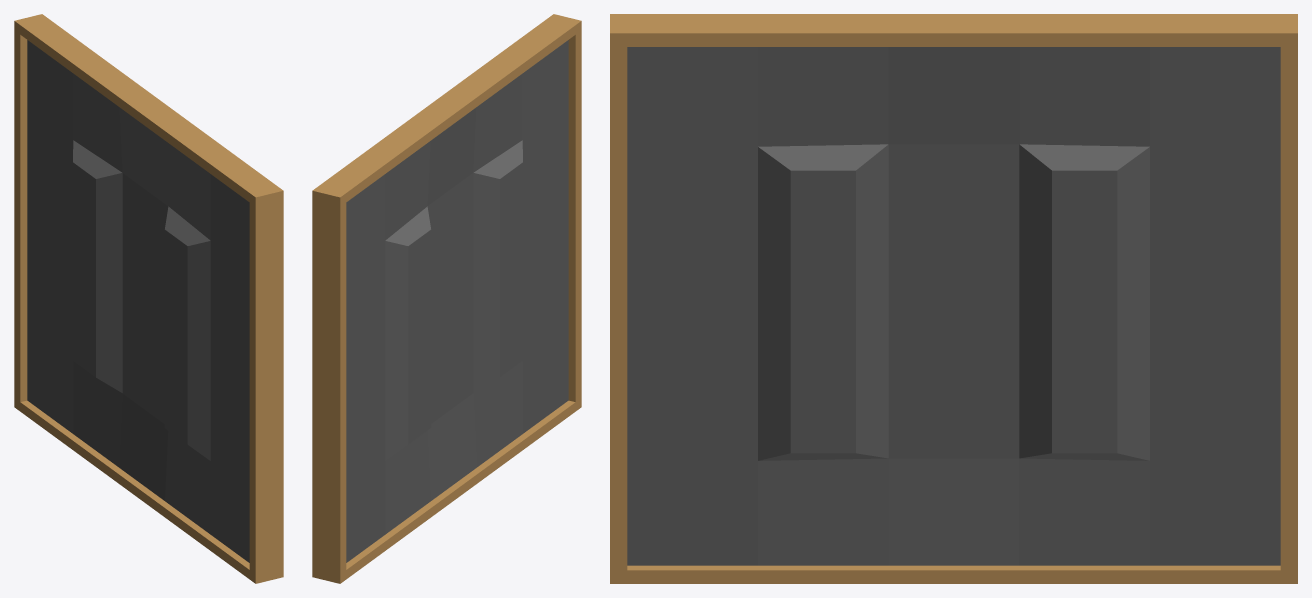
The model's file is IO DOOR.fbx.
The picture shows the model from 3 angles, left to right: view 1: azimuth 30°, elevation 25°; view 2: azimuth 150°, elevation 25°; view 3: azimuth 270°, elevation 25°; orthographic projection. The views are drawn at different scales.
Parts seen in each view (by area): view 1: Cube.001, Cube; view 2: Cube.001, Cube; view 3: Cube.001, Cube.
Part boxes in pixels (left/top/right/bottom): Cube.001: left=27, top=40, right=249, bottom=562; Cube: left=14, top=14, right=283, bottom=583; Cube.001: left=346, top=40, right=568, bottom=562; Cube: left=312, top=14, right=581, bottom=583; Cube.001: left=627, top=47, right=1280, bottom=565; Cube: left=610, top=14, right=1297, bottom=583.
Size of the model in its own units: 26.69 by 265 by 300.
